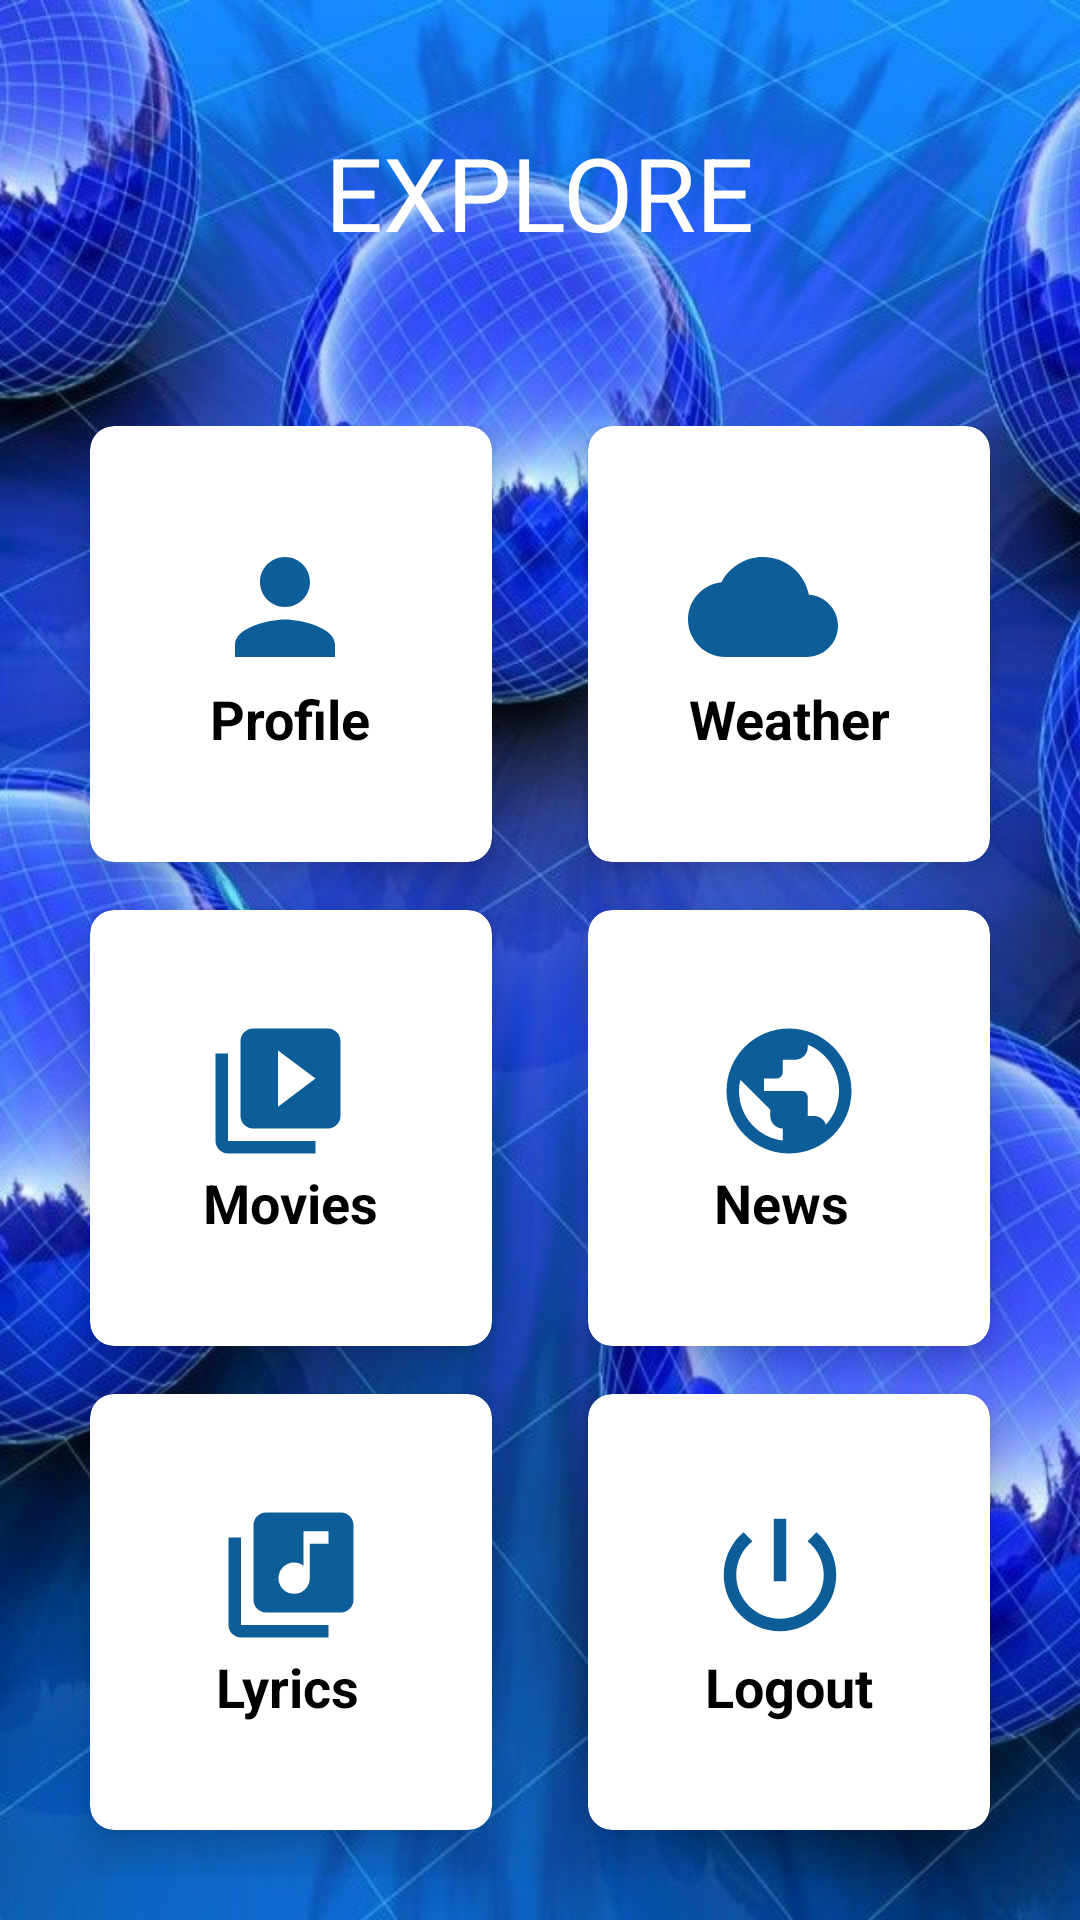

Where icons sit on this 1080x1920 app screen, as [x1,y1,x2,y2]:
cloud: [688,557,838,657]
music: [228,1512,354,1638]
power settings: [723,1518,837,1632]
